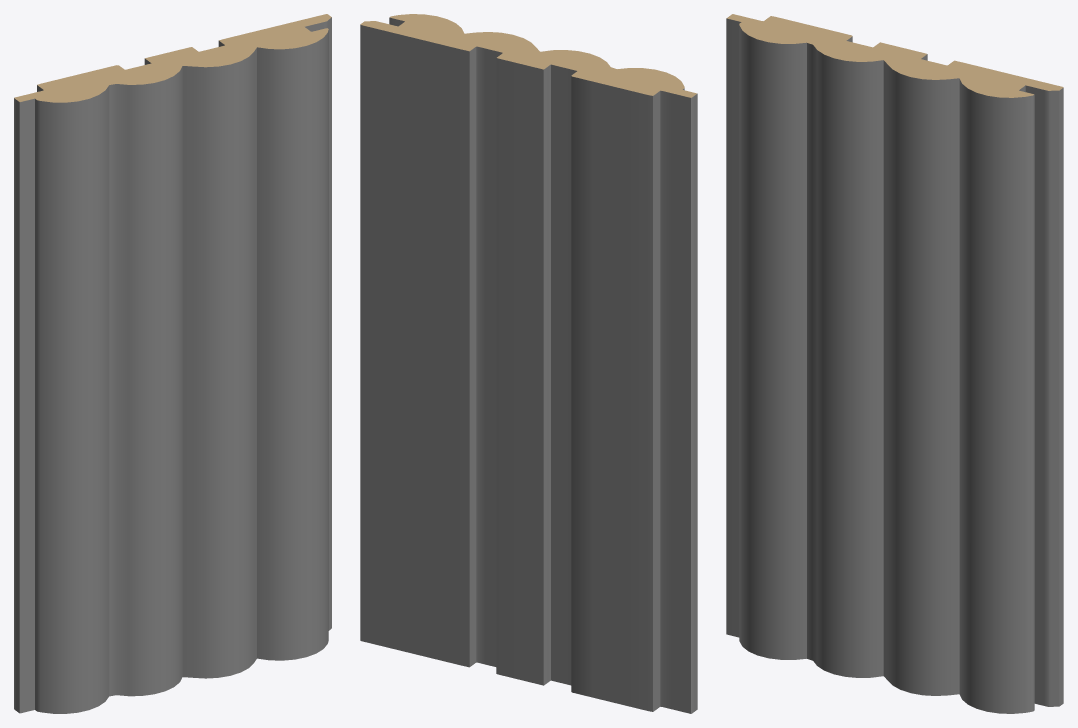
Rendered from rigel.glb.
3 renders of one model, left to right at view 1: azimuth 30°, elevation 25°; view 2: azimuth 150°, elevation 25°; view 3: azimuth 330°, elevation 25°, orthographic.
Parts seen in each view (by area): view 1: root; view 2: root; view 3: root.
Boxes of the visible parts, x1,y1,x2,y2 form: root: [14, 14, 331, 713]; root: [360, 14, 697, 713]; root: [726, 14, 1063, 713].
Bounding box in the file's own units: 0.12 × 0.2182 × 0.018.
